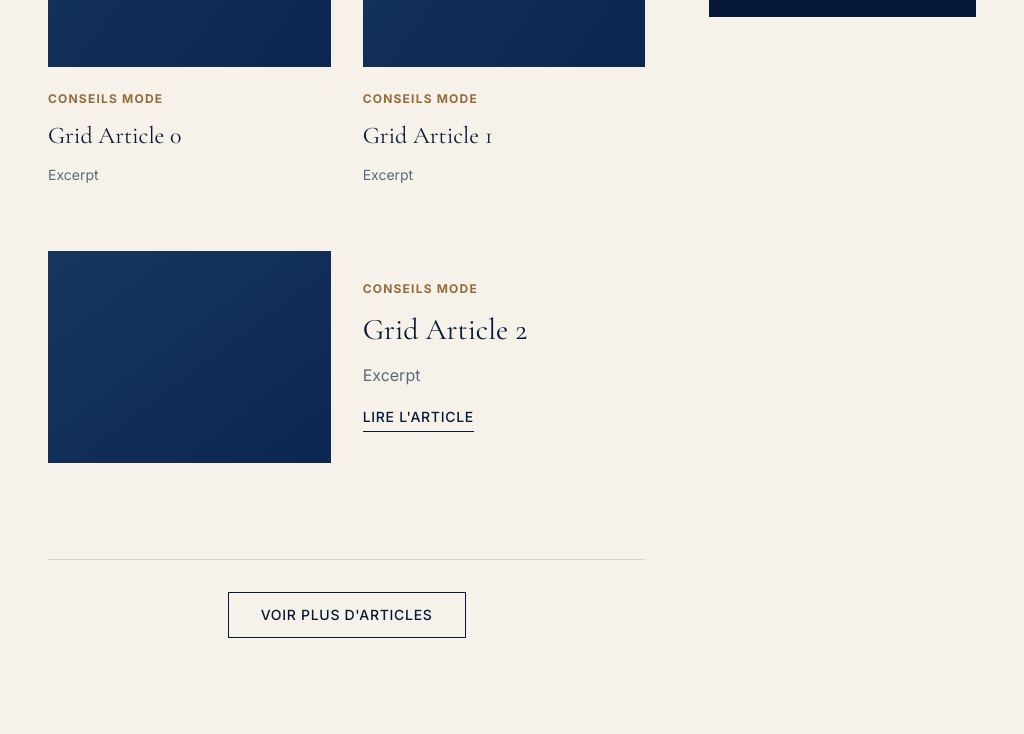
Test case: JournalListePage › reveals more articles when "Voir plus d'articles" is clicked
This screenshot has width=1024, height=734.
(page scrolled)
expect the heading "Grid Article 0" is shown: met, box left=48, top=121, right=182, bottom=150
expect the heading "Grid Article 4" is not shown: met
Click the button "Voir plus d'articles": (347, 615) left=228, top=592, right=466, bottom=638
(page scrolled)
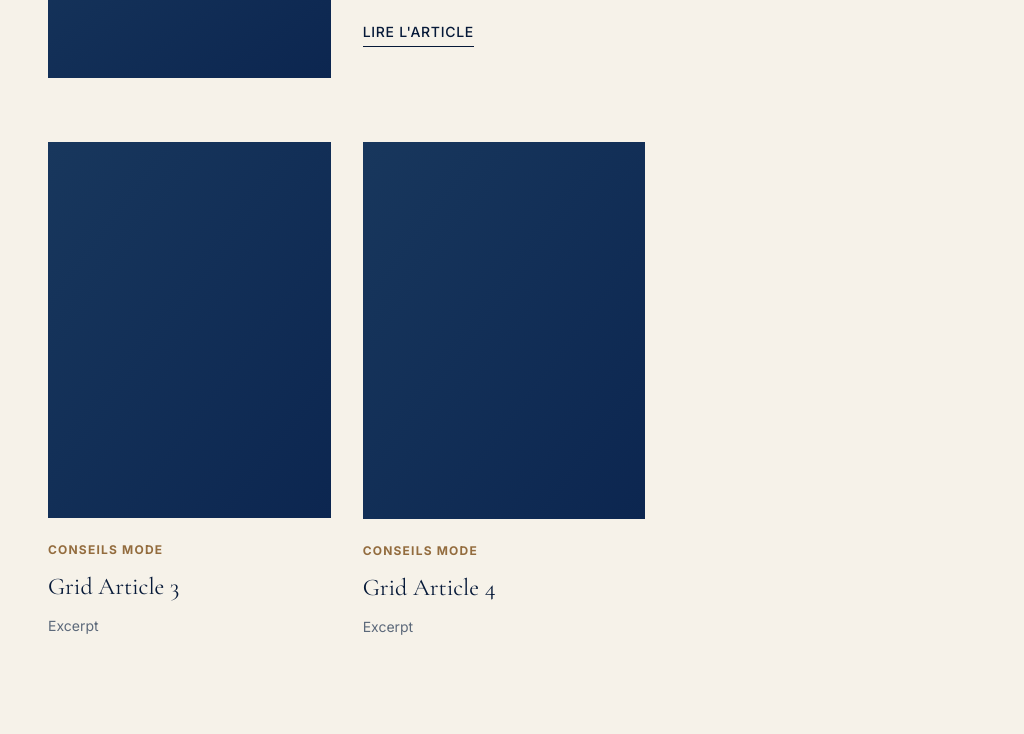
expect the heading "Grid Article 4" is shown: met, box left=363, top=572, right=496, bottom=602
expect the button "Voir plus d'articles" is gone: met
